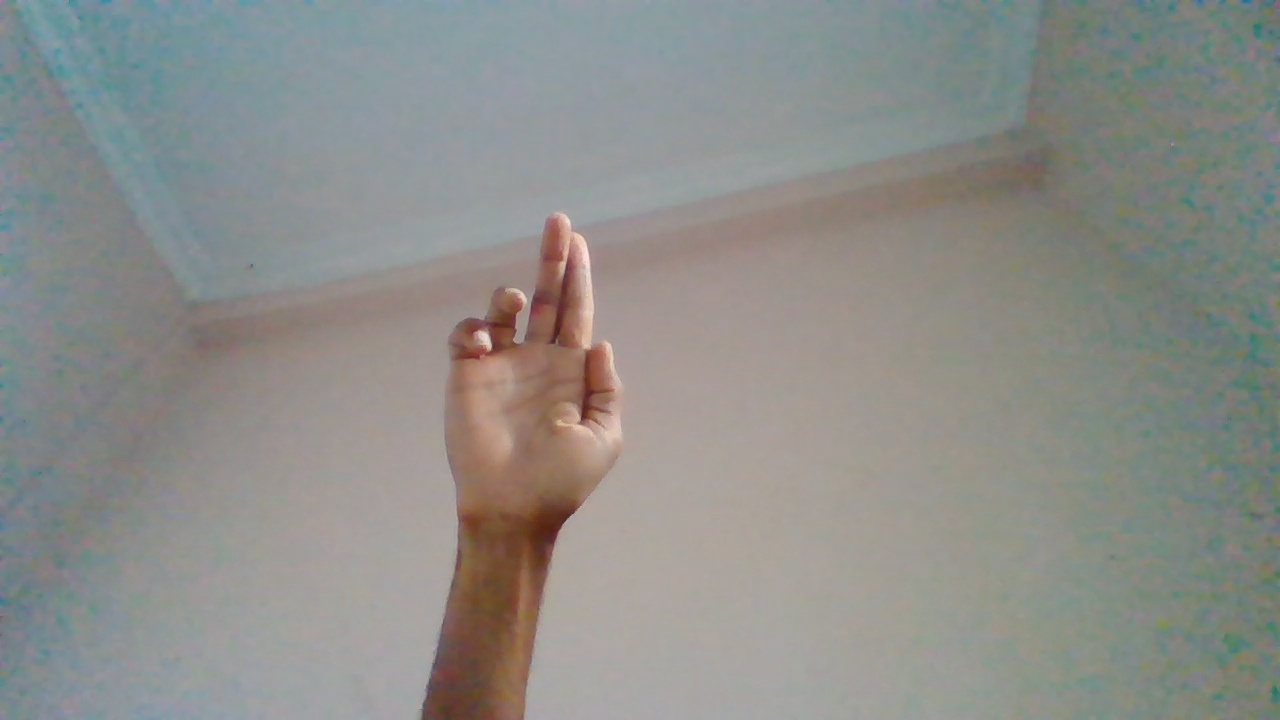gne: (443, 212, 632, 635)
